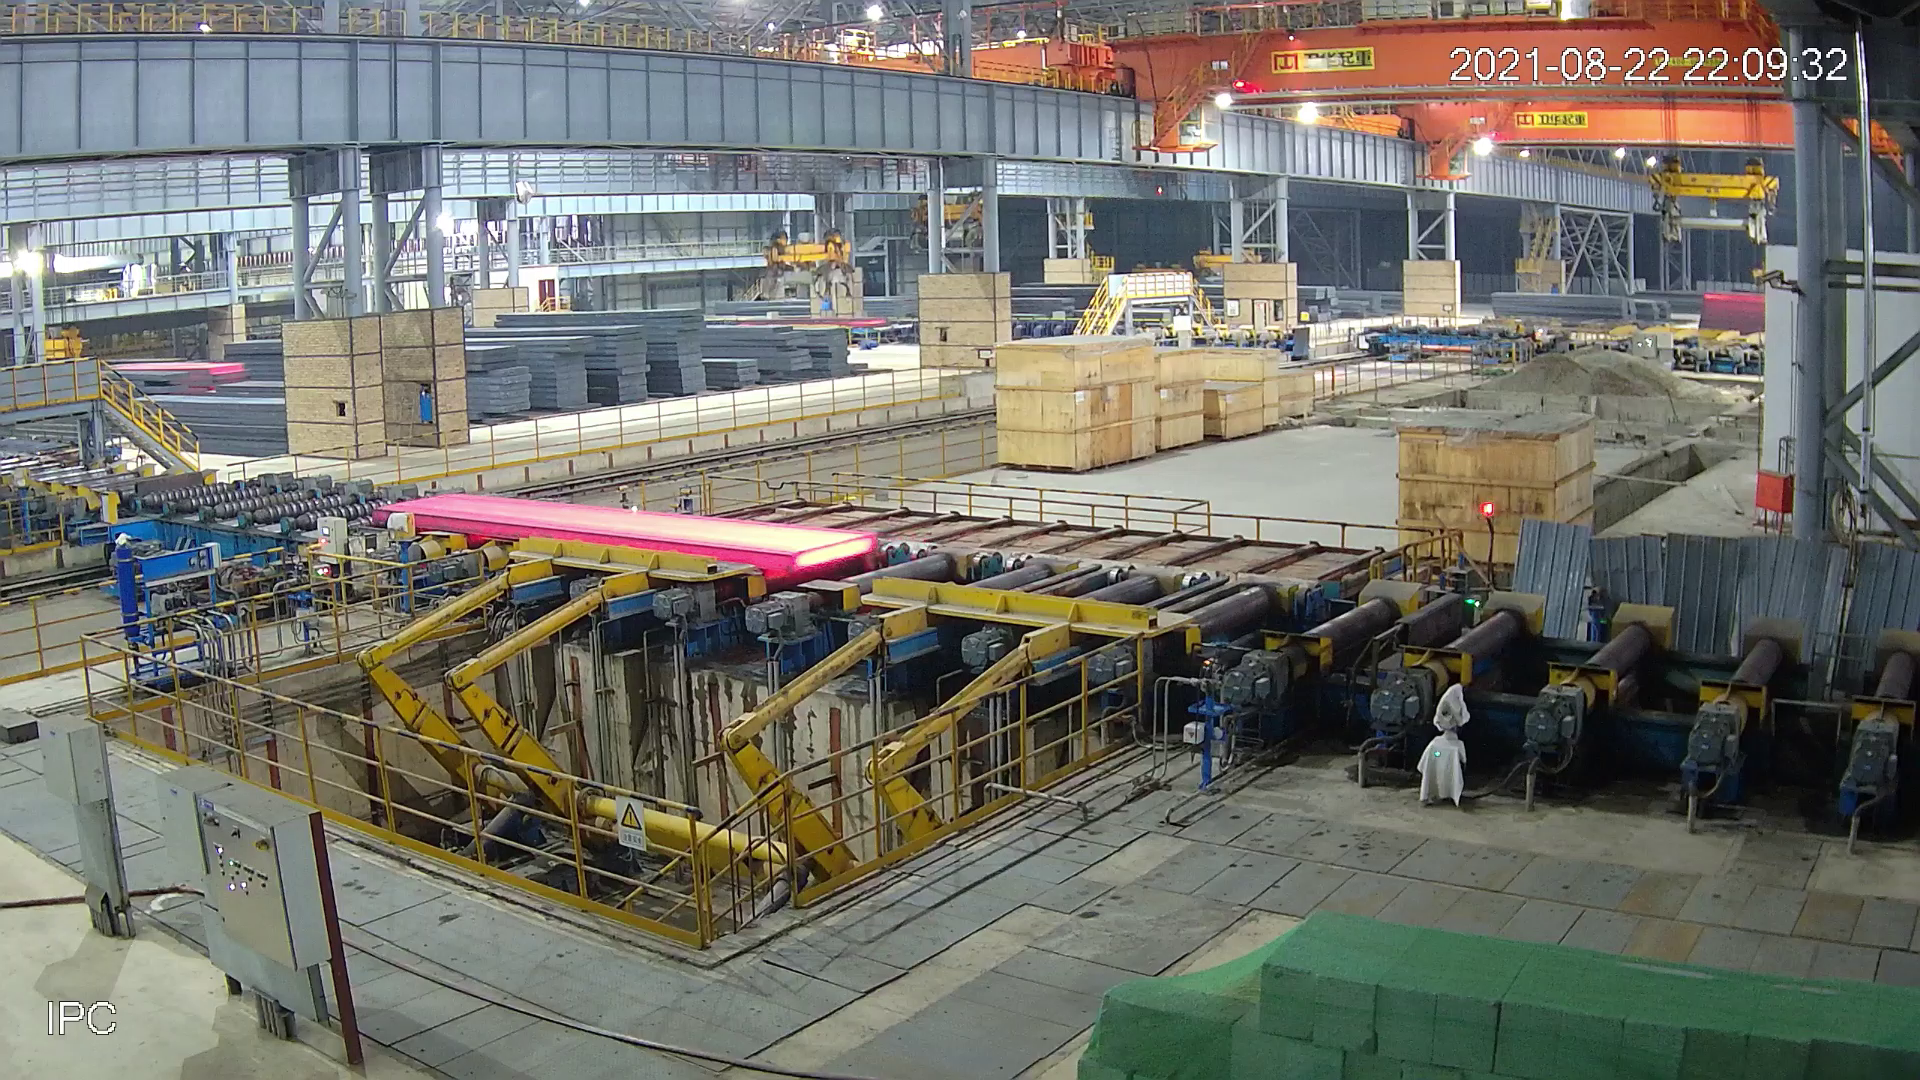slab: (371, 491, 877, 572)
